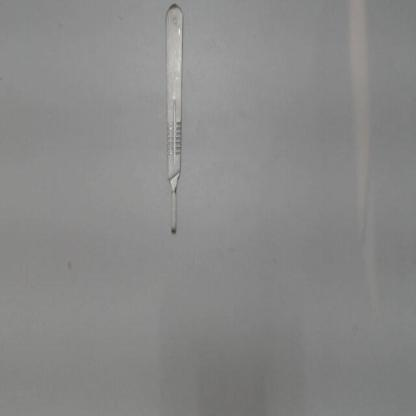No.4 BP Handle: (157, 3, 188, 244)
